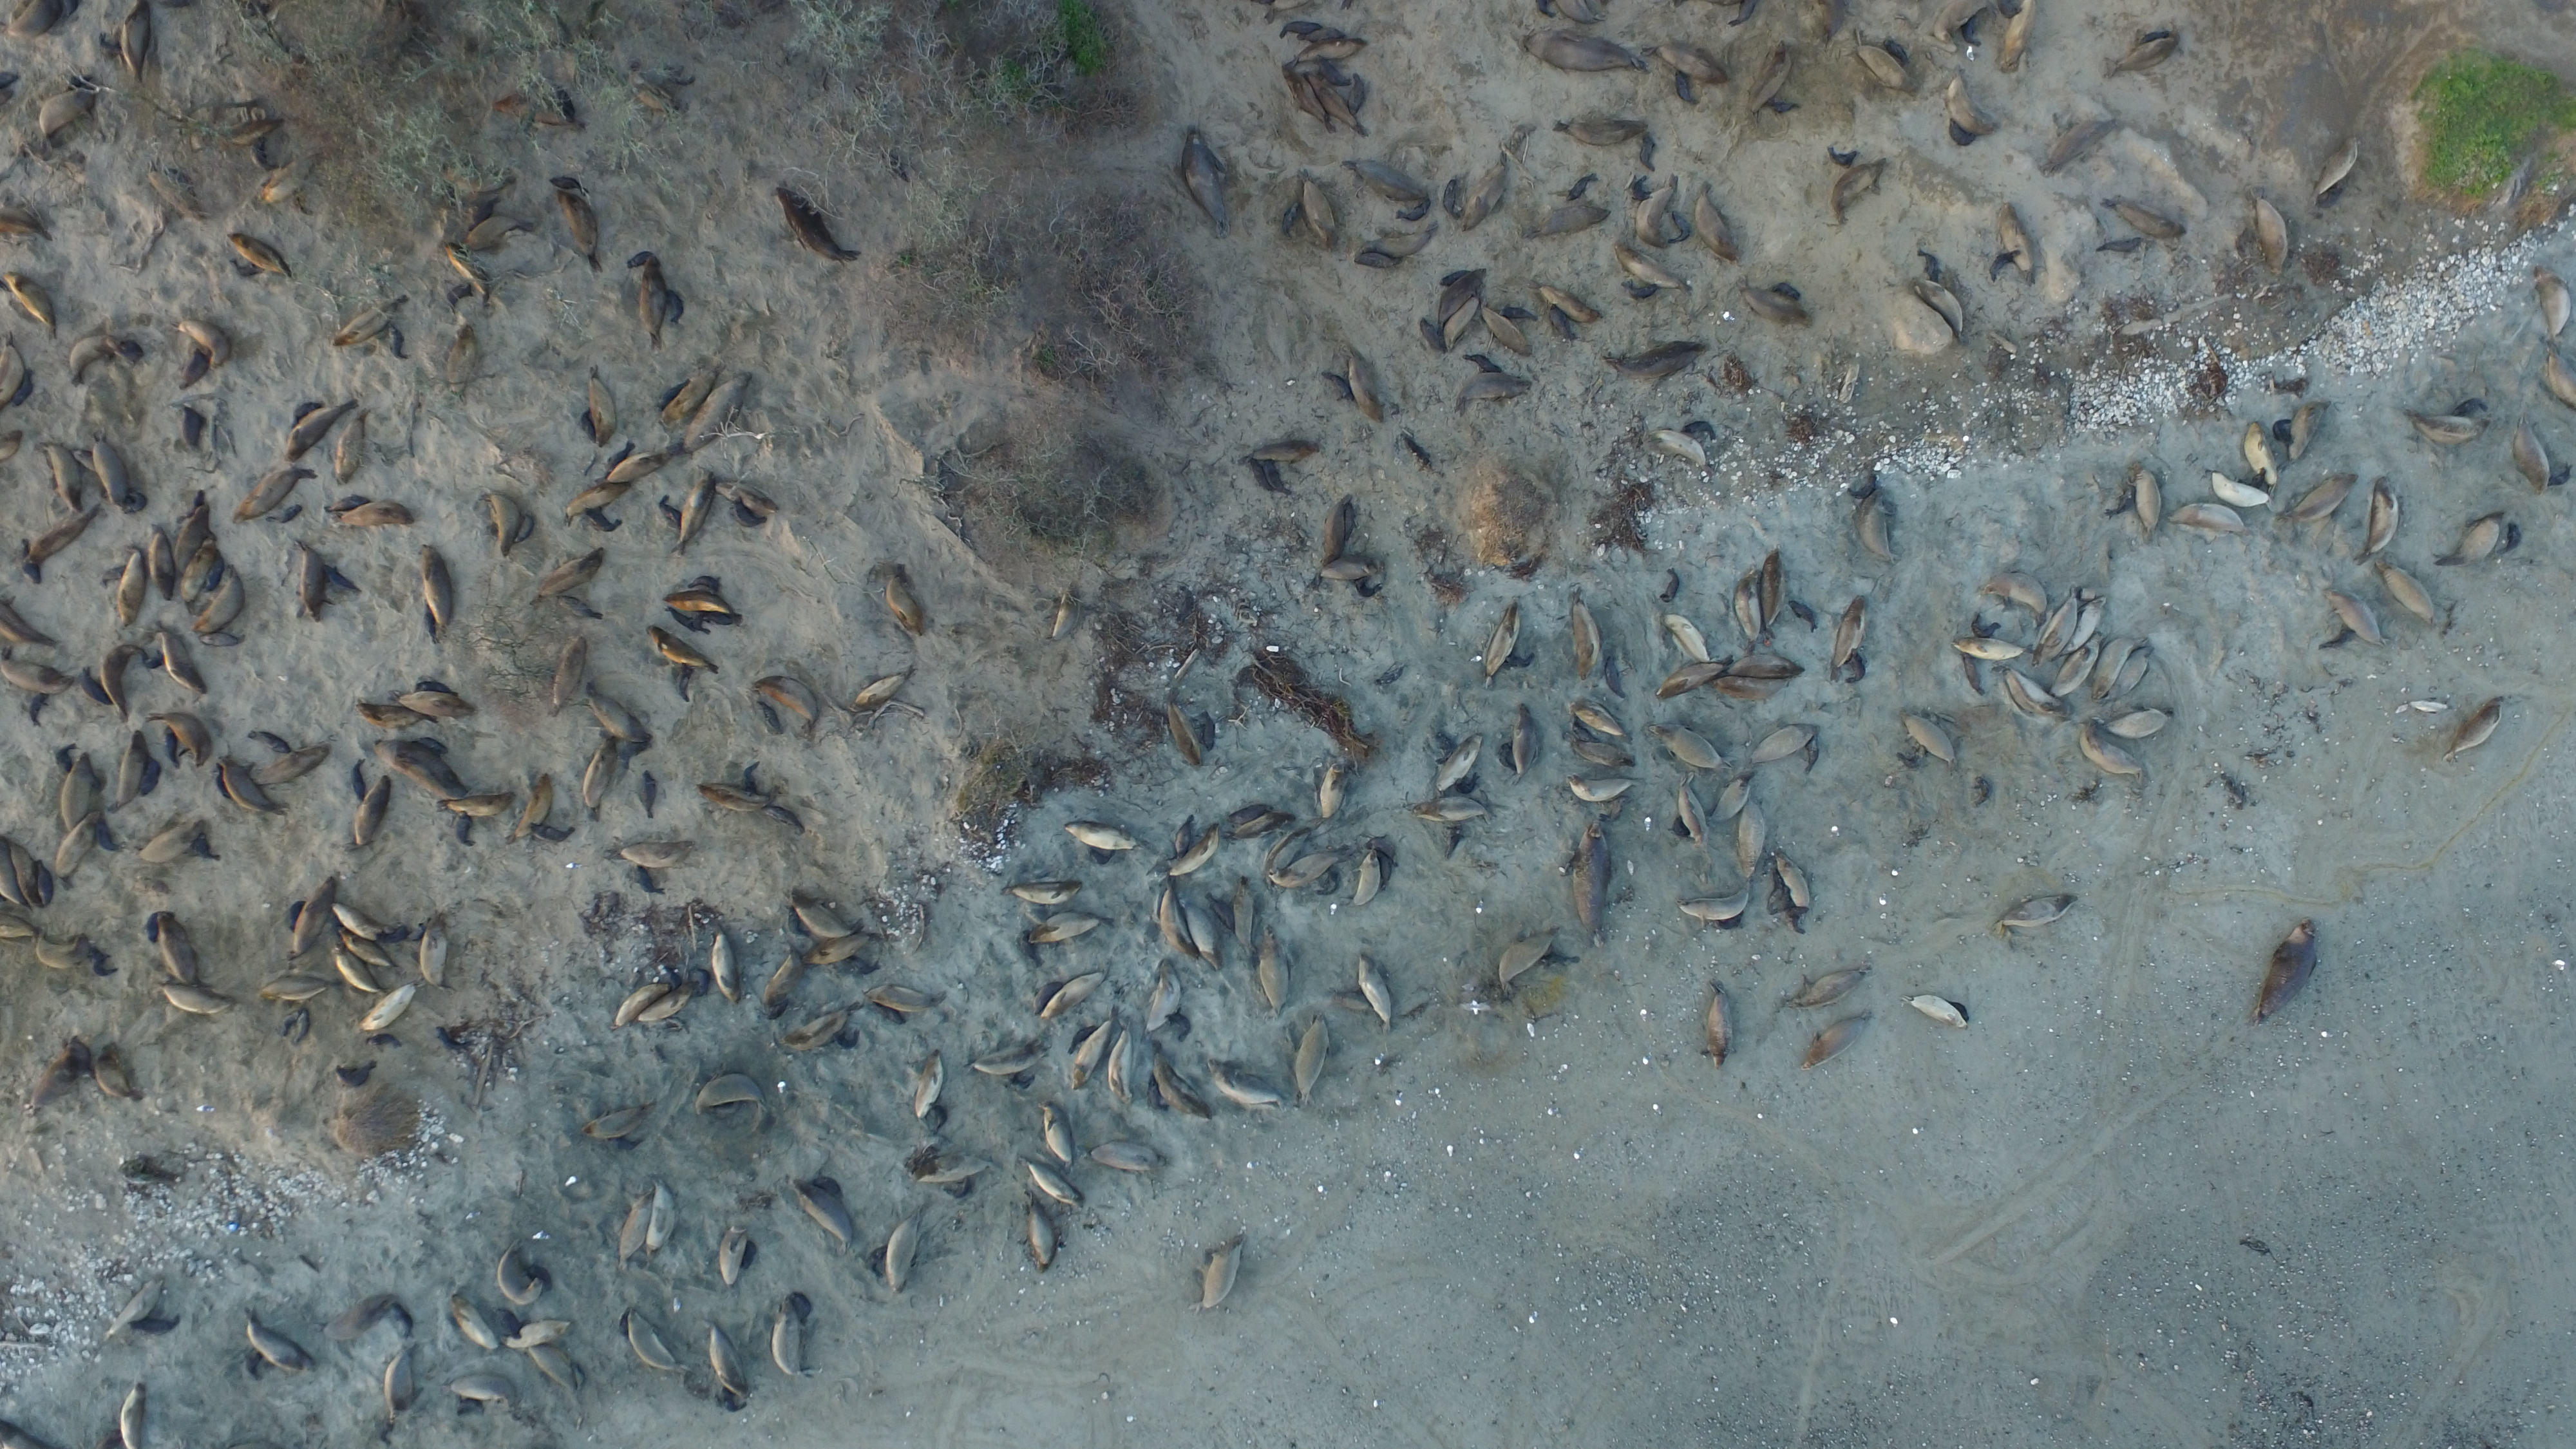adult male: (2258, 906, 2325, 1026), (1516, 25, 1645, 83), (1177, 126, 1237, 241), (1569, 821, 1617, 950), (377, 743, 467, 796), (695, 372, 754, 453), (1598, 343, 1707, 373)
male juvenile / female juvenile / adult female: (770, 186, 855, 265), (2038, 113, 2120, 170), (1693, 975, 1739, 1074), (2373, 561, 2442, 625), (2245, 191, 2295, 274), (1345, 156, 1431, 202), (4, 271, 64, 334), (1614, 242, 1688, 294), (589, 688, 656, 745), (554, 193, 609, 262), (419, 541, 462, 628), (1982, 564, 2052, 616), (2282, 471, 2353, 522), (1486, 934, 1557, 985), (315, 1295, 396, 1339), (1994, 203, 2043, 276), (2077, 725, 2144, 778), (2526, 264, 2571, 343), (1461, 156, 1507, 232), (1295, 170, 1343, 242), (1787, 966, 1872, 1007), (177, 310, 237, 366), (2509, 416, 2551, 495), (1651, 41, 1730, 83), (106, 1279, 170, 1332), (538, 548, 605, 598), (30, 513, 97, 563), (2054, 637, 2111, 695), (1651, 727, 1729, 770), (221, 755, 280, 812), (794, 1184, 849, 1244), (232, 472, 306, 517), (1828, 161, 1891, 212), (1208, 1058, 1279, 1104), (2107, 198, 2187, 239), (295, 878, 336, 957), (244, 1320, 317, 1364), (32, 1044, 88, 1100), (1911, 281, 1971, 334), (1293, 1021, 1334, 1099), (1552, 113, 1651, 145), (1693, 188, 1737, 258), (1806, 1010, 1861, 1067), (1902, 711, 1960, 764), (649, 625, 717, 671), (156, 916, 202, 984), (1946, 74, 1997, 134), (1481, 607, 1523, 679), (1019, 1192, 1062, 1265), (1258, 929, 1293, 1016), (630, 1309, 679, 1371), (2323, 587, 2387, 635), (2403, 407, 2484, 444), (1744, 50, 1796, 108), (1024, 1155, 1085, 1205), (157, 632, 207, 692), (257, 748, 333, 787), (639, 982, 701, 1030), (548, 639, 589, 711), (1044, 973, 1108, 1019), (881, 571, 927, 635), (42, 444, 85, 513), (2456, 506, 2500, 571), (676, 474, 713, 552), (2365, 476, 2399, 561), (755, 674, 823, 717), (157, 980, 230, 1019), (1346, 359, 1389, 425), (150, 713, 216, 755), (1997, 669, 2058, 715), (1353, 954, 1392, 1024), (2, 656, 73, 695), (793, 895, 860, 936), (2457, 697, 2507, 752), (147, 177, 205, 223), (1660, 610, 1713, 660), (706, 929, 741, 1003), (340, 299, 402, 341), (1568, 602, 1601, 679), (1859, 495, 1900, 559), (1039, 1100, 1079, 1164), (1185, 904, 1226, 968), (1736, 287, 1808, 322), (88, 441, 131, 501), (1313, 81, 1364, 131), (92, 1044, 138, 1099), (851, 671, 913, 711), (625, 69, 686, 110), (888, 1208, 916, 1297), (5, 2, 76, 37), (1074, 1023, 1111, 1090), (803, 934, 878, 968), (587, 373, 625, 441), (1161, 701, 1200, 764), (143, 533, 182, 596), (1994, 897, 2081, 925), (442, 241, 492, 290), (1539, 281, 1599, 322), (2065, 600, 2111, 653), (584, 743, 619, 812), (329, 947, 382, 993), (2128, 465, 2166, 531), (1208, 1231, 1240, 1307), (690, 1076, 766, 1108), (363, 987, 419, 1030), (2091, 632, 2127, 699), (1159, 883, 1192, 954), (494, 96, 561, 131), (232, 232, 295, 269), (1858, 48, 1909, 94), (288, 410, 341, 455), (179, 538, 218, 598), (453, 1297, 495, 1352), (203, 575, 246, 630), (101, 646, 136, 711), (58, 814, 96, 876), (297, 548, 327, 625), (2181, 497, 2245, 533), (2098, 709, 2181, 736), (442, 166, 520, 195), (65, 334, 122, 373), (1656, 662, 1721, 695), (1711, 773, 1759, 819), (1437, 740, 1484, 786), (1261, 828, 1311, 872), (37, 96, 99, 131), (517, 778, 554, 837), (649, 1178, 676, 1260), (396, 694, 478, 720), (609, 842, 695, 867), (2319, 134, 2358, 189), (145, 821, 200, 860), (1065, 821, 1139, 849), (782, 1012, 856, 1040), (1904, 996, 1962, 1031), (1456, 375, 1534, 402), (449, 326, 476, 403), (697, 782, 770, 810), (329, 902, 384, 939), (338, 929, 393, 966), (119, 1385, 150, 1449), (1566, 773, 1642, 800), (1030, 916, 1106, 943), (911, 1155, 987, 1182), (1049, 586, 1085, 642), (449, 1373, 520, 1401), (1773, 853, 1812, 904), (387, 1352, 418, 1417), (531, 1348, 575, 1392), (2541, 352, 2576, 407), (1090, 1143, 1168, 1168), (621, 1189, 646, 1267), (265, 163, 315, 202), (2045, 596, 2075, 660), (485, 492, 517, 552), (966, 1049, 1049, 1072), (2238, 423, 2275, 474), (501, 1246, 534, 1302), (260, 975, 327, 1003), (867, 985, 943, 1010), (1736, 571, 1762, 642), (2116, 649, 2157, 695), (1267, 860, 1348, 883), (2008, 2, 2038, 64), (1748, 725, 1810, 755), (616, 982, 663, 1021), (2112, 42, 2178, 71), (506, 1322, 571, 1350), (1741, 801, 1766, 876), (456, 221, 531, 246), (717, 479, 777, 510), (119, 1159, 179, 1189), (7, 846, 37, 906), (2291, 400, 2323, 456), (1649, 432, 1706, 464), (681, 368, 713, 425), (1511, 704, 1536, 777), (1284, 76, 1323, 122), (126, 4, 149, 81), (1154, 964, 1180, 1031), (1182, 826, 1219, 874), (1408, 798, 1491, 819), (1677, 782, 1707, 840), (1295, 35, 1366, 60), (1675, 895, 1752, 918), (357, 784, 389, 839), (65, 757, 92, 823), (0, 209, 51, 242), (1235, 812, 1295, 840), (218, 119, 285, 143), (662, 593, 740, 614), (644, 258, 663, 343), (359, 699, 414, 729), (1838, 598, 1863, 663), (916, 1051, 941, 1116), (1764, 554, 1783, 637), (124, 731, 145, 807), (1323, 501, 1353, 554), (35, 936, 88, 966), (117, 556, 140, 625), (610, 453, 665, 481), (1003, 883, 1083, 902), (177, 511, 211, 557), (579, 1113, 651, 1134), (1730, 658, 1808, 678), (1527, 212, 1608, 230), (766, 948, 796, 996), (1113, 1031, 1132, 1104), (1318, 766, 1345, 819), (442, 798, 513, 817), (2210, 487, 2273, 508), (722, 1221, 743, 1284), (563, 488, 626, 510), (341, 416, 363, 479), (345, 508, 414, 527), (428, 913, 446, 985), (1355, 855, 1380, 906), (1711, 683, 1787, 699), (1318, 559, 1378, 579), (1247, 444, 1320, 460), (0, 345, 21, 398), (145, 916, 159, 939)
pup: (1955, 655, 1990, 697), (177, 349, 211, 393), (175, 405, 209, 448), (433, 1024, 471, 1056), (1205, 895, 1237, 931), (1603, 655, 1628, 699), (531, 821, 575, 846), (1985, 248, 2017, 281), (1787, 598, 1821, 630), (754, 701, 786, 734), (251, 729, 294, 754), (16, 540, 41, 582), (2500, 518, 2526, 557), (324, 566, 363, 593), (559, 596, 603, 619), (1261, 464, 1293, 495), (1415, 318, 1444, 354), (34, 863, 57, 906), (1311, 60, 1350, 85), (1635, 134, 1660, 173), (451, 814, 481, 846), (94, 819, 122, 853), (1969, 610, 2005, 637), (727, 508, 771, 529), (345, 761, 370, 798), (1914, 251, 1944, 281), (786, 1290, 816, 1320), (389, 1307, 419, 1338), (1325, 373, 1353, 405), (334, 1065, 373, 1088), (196, 632, 242, 651), (633, 869, 667, 895), (810, 1171, 846, 1196), (1941, 122, 1978, 145), (81, 674, 108, 706), (671, 667, 695, 701), (639, 775, 658, 817), (412, 679, 455, 699), (763, 807, 798, 830), (134, 1320, 180, 1338), (90, 952, 119, 980), (1546, 308, 1573, 338), (1030, 980, 1056, 1010), (497, 1311, 527, 1338), (170, 168, 200, 195), (1670, 71, 1695, 103), (584, 510, 621, 531), (2112, 485, 2135, 518), (1660, 568, 1683, 602), (669, 610, 702, 633), (1442, 180, 1461, 219), (1824, 145, 1859, 166), (1467, 352, 1502, 373), (1539, 954, 1582, 971), (658, 499, 685, 527), (239, 1353, 267, 1380), (717, 1389, 747, 1414), (655, 382, 685, 407), (418, 609, 441, 640), (1622, 281, 1660, 301), (1679, 419, 1720, 437), (1146, 1079, 1168, 1113), (205, 554, 226, 587), (469, 202, 495, 228), (1882, 37, 1911, 62), (1247, 464, 1272, 492), (97, 32, 126, 57), (2450, 396, 2486, 416), (1564, 179, 1599, 198), (1200, 713, 1217, 752), (1175, 817, 1192, 856), (846, 957, 881, 977), (557, 88, 577, 124), (161, 732, 180, 768), (228, 258, 264, 278), (1299, 27, 1341, 42), (1348, 74, 1364, 117), (695, 610, 738, 626), (1628, 177, 1652, 203), (607, 1136, 644, 1154), (1849, 651, 1868, 685), (416, 734, 449, 754), (1228, 805, 1274, 819), (1019, 934, 1042, 962), (786, 909, 807, 939), (1670, 211, 1688, 246), (548, 173, 584, 191), (1971, 775, 1990, 807), (1960, 16, 1980, 48), (1773, 280, 1805, 299), (1499, 306, 1537, 322), (97, 566, 129, 586), (1852, 474, 1877, 499), (249, 149, 276, 172), (2316, 630, 2358, 644), (2270, 418, 2291, 446), (1898, 747, 1927, 768), (1281, 19, 1323, 34), (1355, 257, 1398, 271), (1668, 814, 1690, 842), (1166, 1014, 1194, 1035), (692, 968, 713, 996), (625, 248, 653, 269), (603, 446, 632, 467), (387, 331, 409, 359), (28, 694, 50, 722), (110, 345, 143, 363), (363, 1035, 400, 1051), (193, 835, 216, 860), (1787, 906, 1808, 932), (1568, 725, 1599, 743), (1281, 203, 1299, 235), (1086, 849, 1118, 867), (1322, 874, 1343, 901), (1378, 855, 1396, 886), (1368, 833, 1394, 855), (740, 763, 761, 789), (667, 288, 685, 320), (142, 761, 159, 793), (2551, 464, 2571, 492), (1497, 741, 1516, 770), (1444, 830, 1463, 858), (876, 1005, 904, 1024), (692, 573, 720, 593), (288, 402, 318, 419), (1398, 205, 1435, 219), (531, 1267, 556, 1288), (448, 285, 472, 306), (380, 925, 407, 945), (57, 745, 76, 771), (92, 1433, 124, 1449), (272, 506, 304, 522), (2243, 467, 2268, 487), (931, 1106, 950, 1131), (870, 1246, 886, 1276), (458, 1403, 488, 1419), (580, 412, 596, 442), (2319, 191, 2346, 209), (1433, 734, 1451, 761), (1355, 580, 1382, 598), (741, 1244, 759, 1270), (212, 773, 230, 800), (2135, 30, 2173, 42), (1808, 734, 1821, 771), (280, 1010, 295, 1039), (327, 499, 370, 510), (19, 373, 34, 405), (142, 651, 165, 671), (127, 490, 147, 513), (1005, 1077, 1035, 1092), (2098, 241, 2146, 249), (1994, 2, 2020, 18), (1343, 506, 1355, 540), (1953, 1001, 1973, 1023), (837, 1031, 860, 1049), (1506, 655, 1534, 669), (1771, 874, 1783, 906), (1709, 920, 1746, 931), (948, 1182, 973, 1198), (770, 1001, 789, 1021), (665, 970, 685, 989), (1771, 101, 1798, 115), (1070, 1028, 1097, 1042), (617, 1311, 632, 1338), (297, 1016, 310, 1044), (1438, 272, 1468, 283), (410, 924, 428, 941), (1780, 892, 1790, 916), (520, 517, 531, 541), (1454, 786, 1477, 794)
